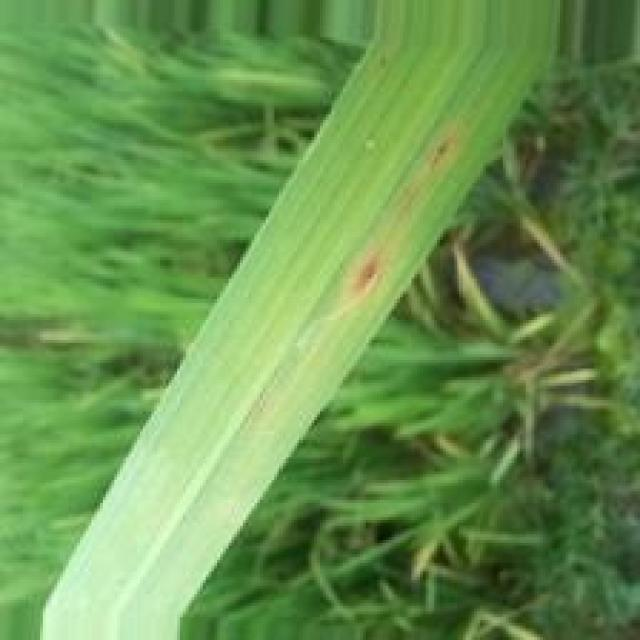Brown_Spot: (340, 251, 386, 307), (423, 132, 461, 175)
